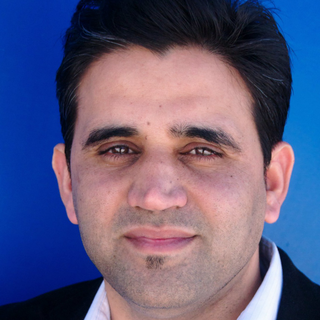eye: (95, 139, 143, 164), (177, 140, 227, 164)
